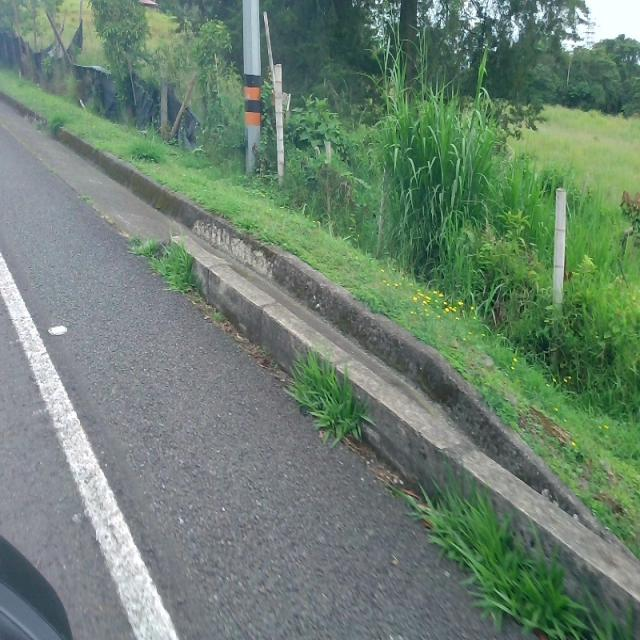DITCH: (1, 92, 638, 638)
